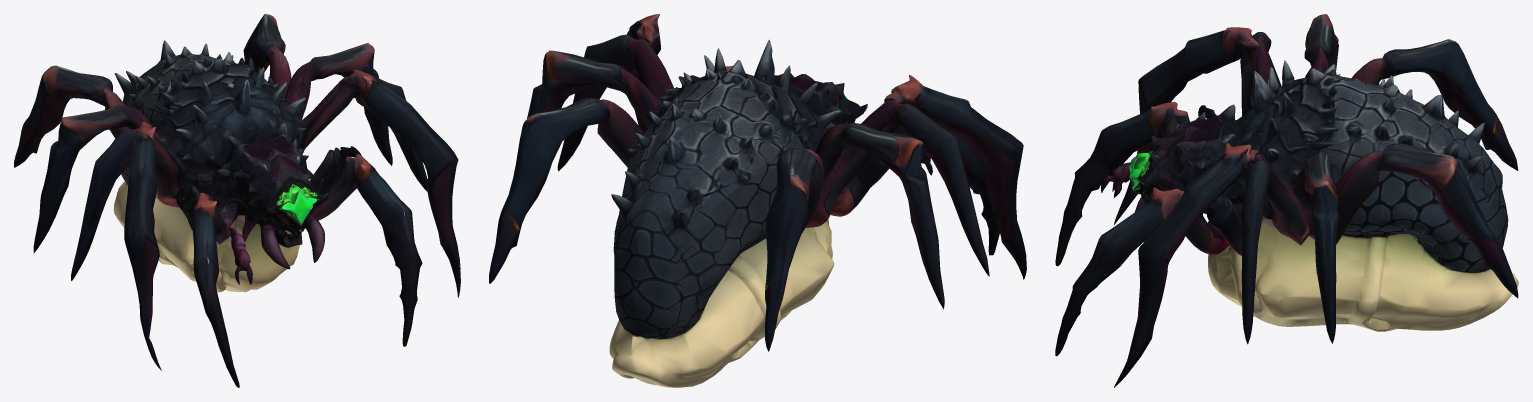
Rendered from morwen.glb.
3 renders of one model, left to right at view 1: azimuth 30°, elevation 25°; view 2: azimuth 150°, elevation 25°; view 3: azimuth 270°, elevation 25°, orthographic. The views are drawn at different scales.
Bounding box in the file's own units: 1.91 × 1.14 × 1.9.
Materials: 1 (1 with a texture image).
